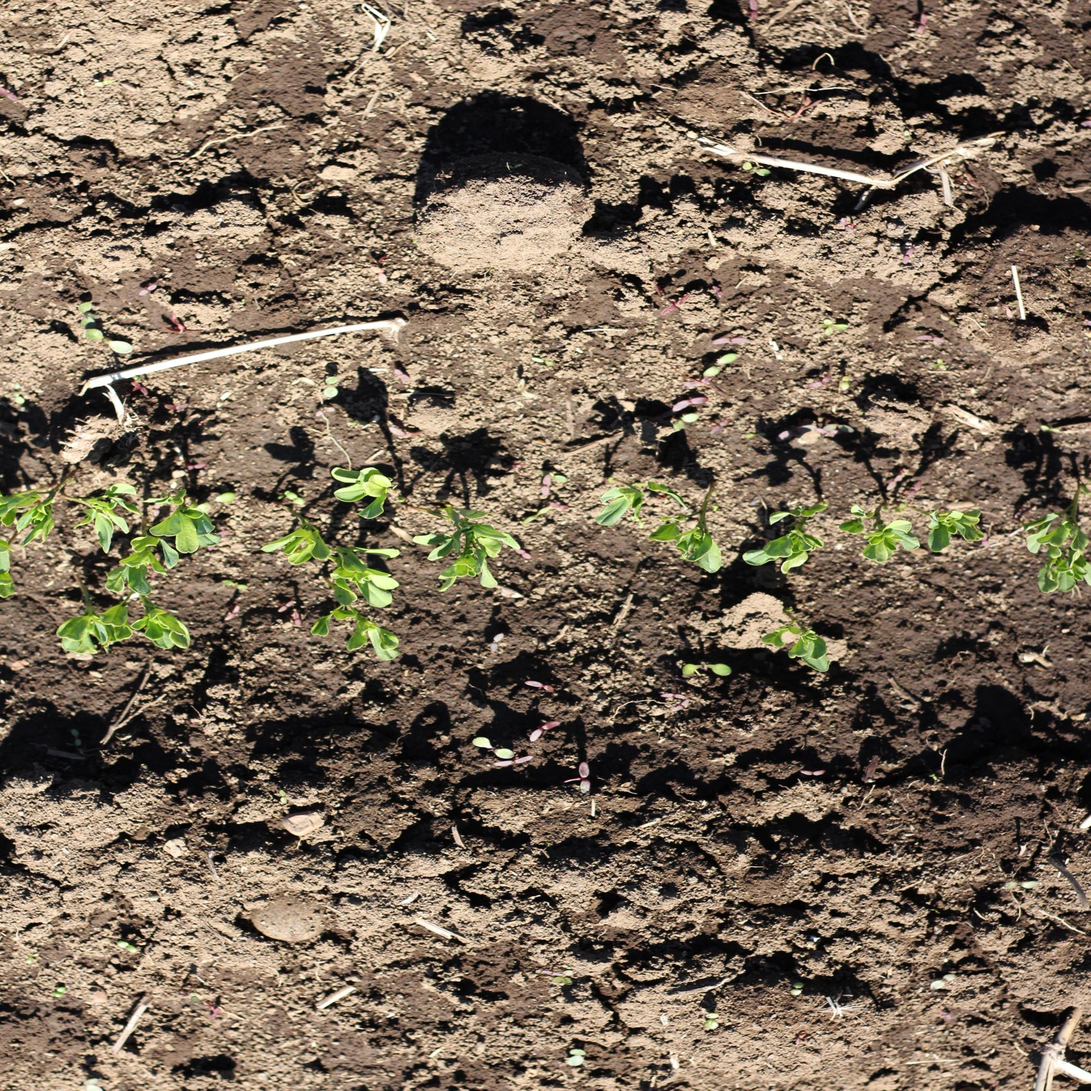AMBEL: (80, 327, 137, 355), (76, 297, 105, 343), (701, 348, 743, 377), (677, 662, 739, 681), (469, 737, 515, 762), (671, 411, 708, 432), (822, 421, 857, 439), (820, 317, 853, 336), (566, 1046, 593, 1069), (928, 972, 959, 992), (1001, 879, 1042, 893), (744, 160, 775, 178), (321, 372, 341, 399), (514, 377, 536, 399), (113, 939, 141, 956), (282, 491, 308, 509), (219, 581, 254, 594), (552, 971, 579, 987), (705, 1011, 724, 1033), (930, 358, 956, 373), (529, 353, 556, 367), (215, 388, 233, 408), (773, 337, 788, 361), (91, 77, 117, 90), (1039, 421, 1064, 434), (273, 789, 294, 804), (790, 981, 808, 998), (841, 372, 856, 391), (70, 729, 84, 749), (52, 985, 69, 999), (548, 473, 567, 485)
LENCU: (409, 500, 518, 584), (1017, 509, 1087, 591), (323, 545, 409, 609), (313, 608, 411, 662), (92, 541, 182, 598), (833, 503, 918, 561), (65, 484, 141, 546), (322, 459, 401, 518), (144, 492, 221, 552), (56, 597, 131, 655), (644, 517, 723, 572), (760, 618, 834, 673), (740, 526, 825, 573), (594, 473, 670, 523), (133, 601, 201, 654), (259, 519, 334, 566), (0, 483, 58, 540), (926, 504, 988, 551), (762, 498, 825, 522)
POLPE: (525, 721, 561, 745), (670, 393, 711, 412), (491, 751, 535, 768), (574, 762, 596, 795), (520, 681, 558, 697), (711, 332, 753, 346), (776, 425, 810, 441), (386, 424, 422, 439), (903, 476, 926, 499), (709, 416, 734, 435), (809, 371, 835, 389), (0, 84, 23, 103), (221, 606, 242, 626), (129, 378, 152, 396), (915, 13, 932, 37), (914, 333, 948, 345), (886, 471, 906, 491), (927, 926, 948, 945), (391, 366, 412, 384), (489, 633, 506, 655), (169, 311, 185, 333), (138, 280, 158, 297), (660, 693, 694, 703), (840, 215, 858, 233), (941, 1006, 960, 1023), (800, 769, 829, 780), (902, 243, 917, 264), (540, 471, 552, 497), (312, 406, 336, 419), (374, 266, 388, 287), (797, 764, 826, 774), (288, 611, 304, 629), (671, 700, 695, 712), (550, 500, 575, 511), (748, 0, 764, 17), (513, 550, 533, 563), (713, 283, 728, 299), (208, 1007, 224, 1020), (186, 460, 209, 469), (278, 601, 294, 612), (507, 460, 527, 468), (1080, 118, 1091, 129)
